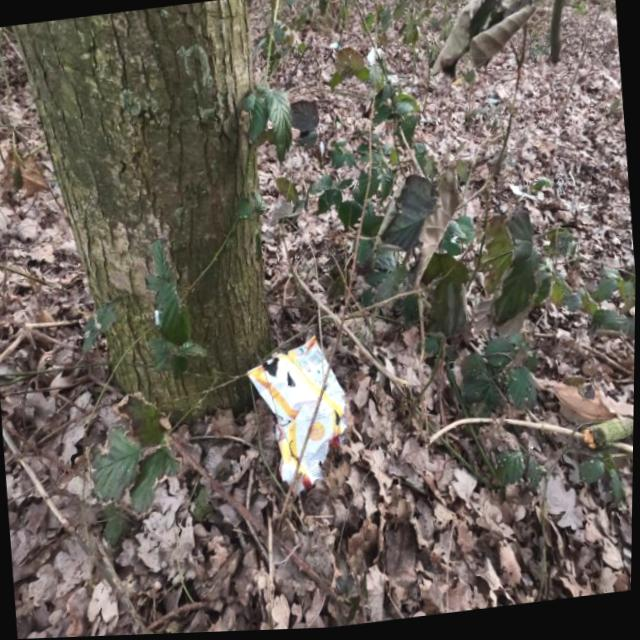Plastic: (242, 332, 359, 503)
